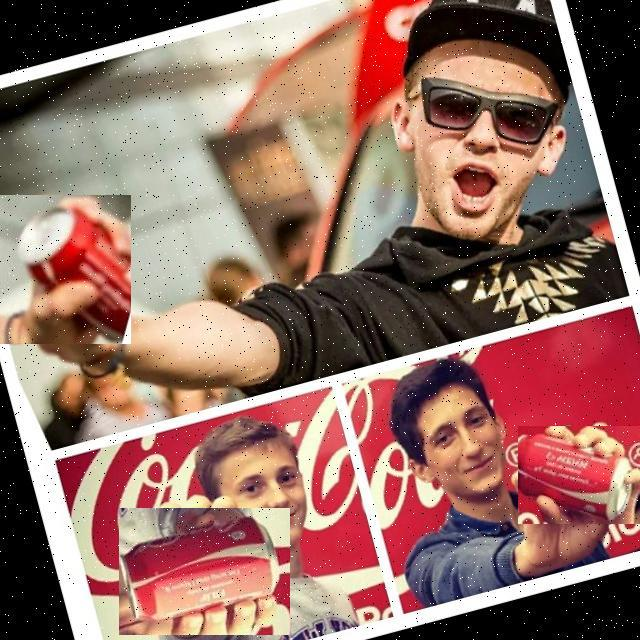coca-cola: (119, 508, 290, 635), (0, 195, 131, 344), (518, 426, 640, 524)
